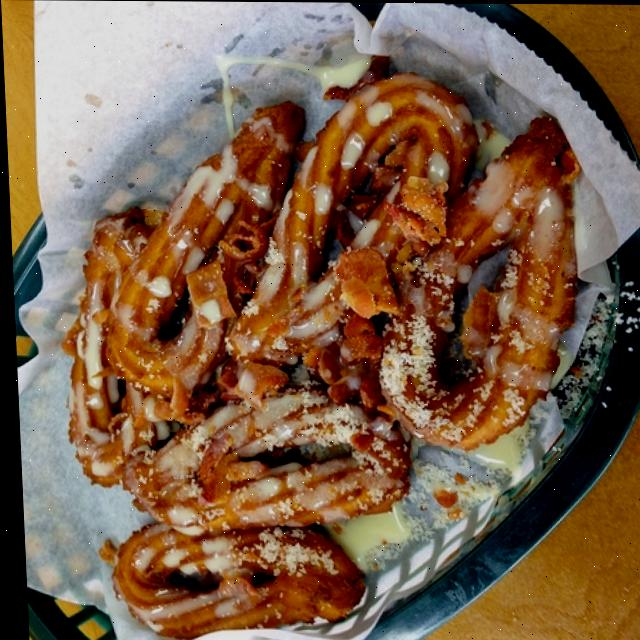炸货点心: (32, 49, 613, 640)
